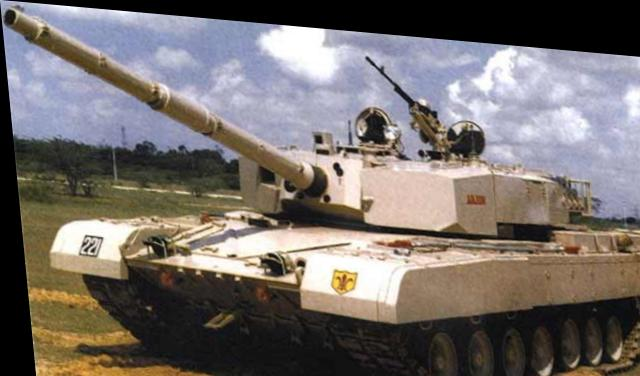tank: (34, 137, 640, 374), (431, 75, 481, 145)
